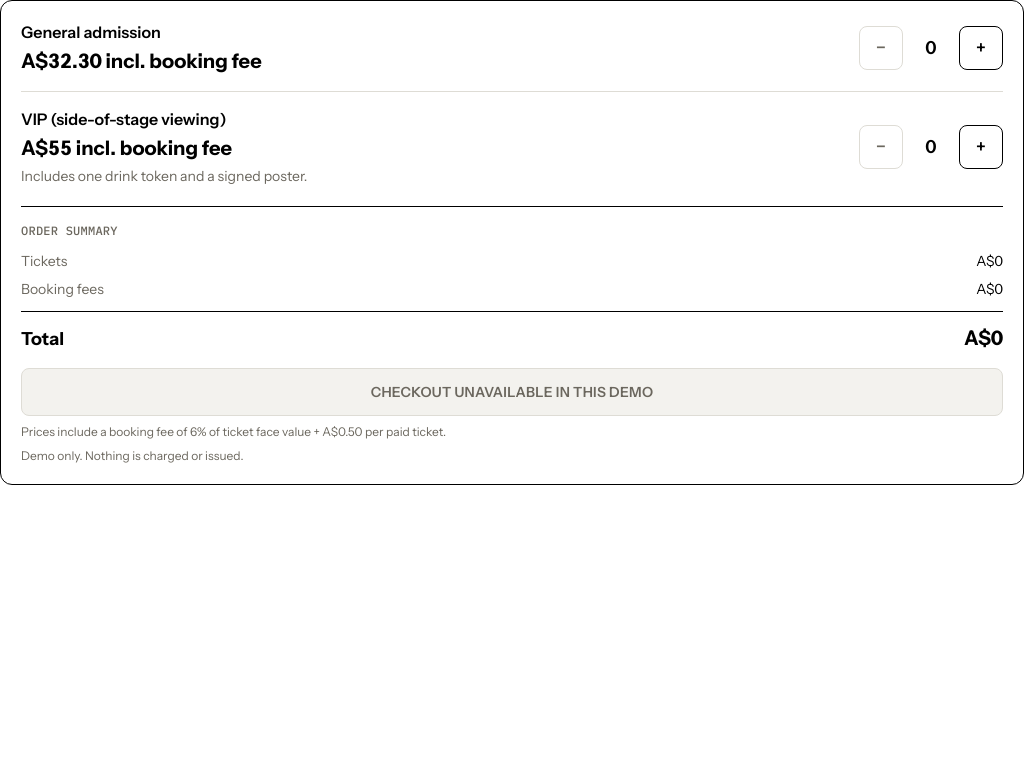
Scenario: Support Sheltüh in the ticket selector (general admission) › is in the demo's preview too (nothing can be booked there)
Click the button named "Increase quantity for General admission": click(981, 48) [959, 26, 1003, 70]
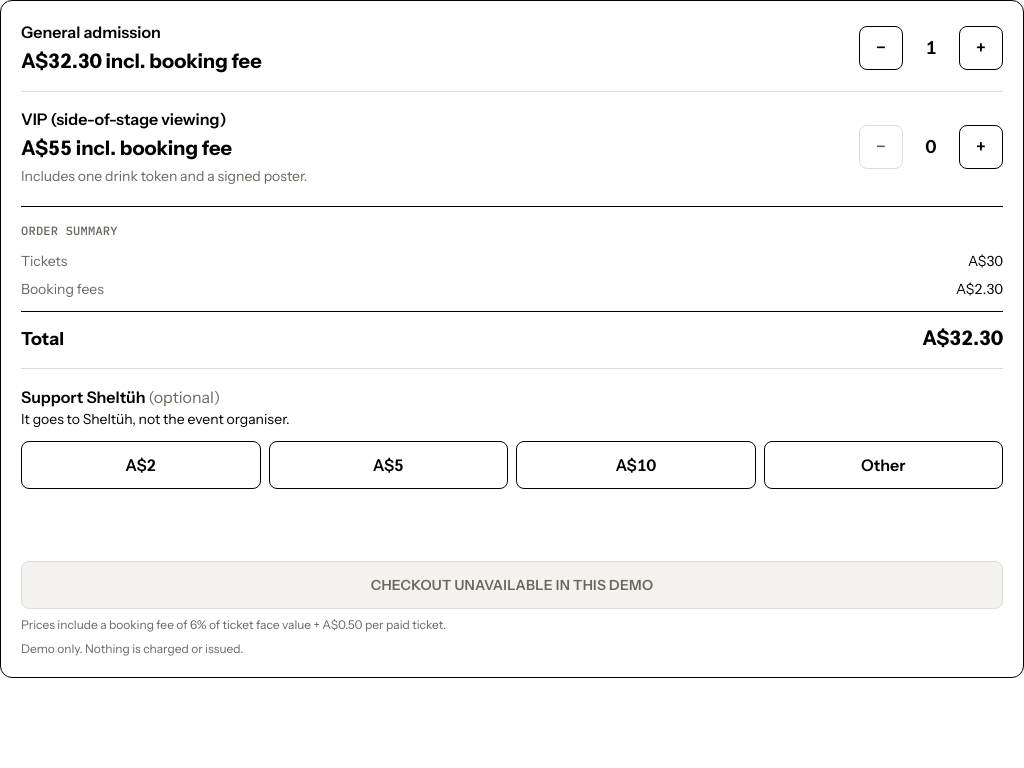
Click the radio button labelled "A$2": click(141, 465) [21, 441, 260, 489]
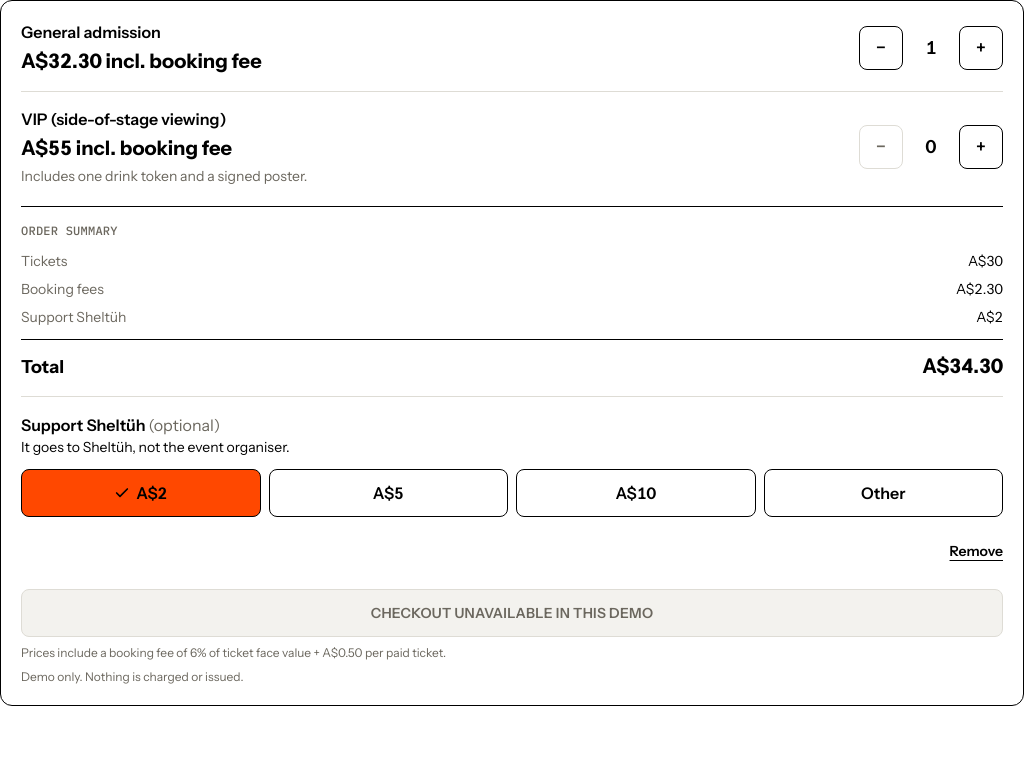
Expected: the button "Checkout unavailable in this demo" is disabled, [21, 589, 1003, 637]
Result: the text "A$34.30" is shown at [922, 352, 1003, 380]
